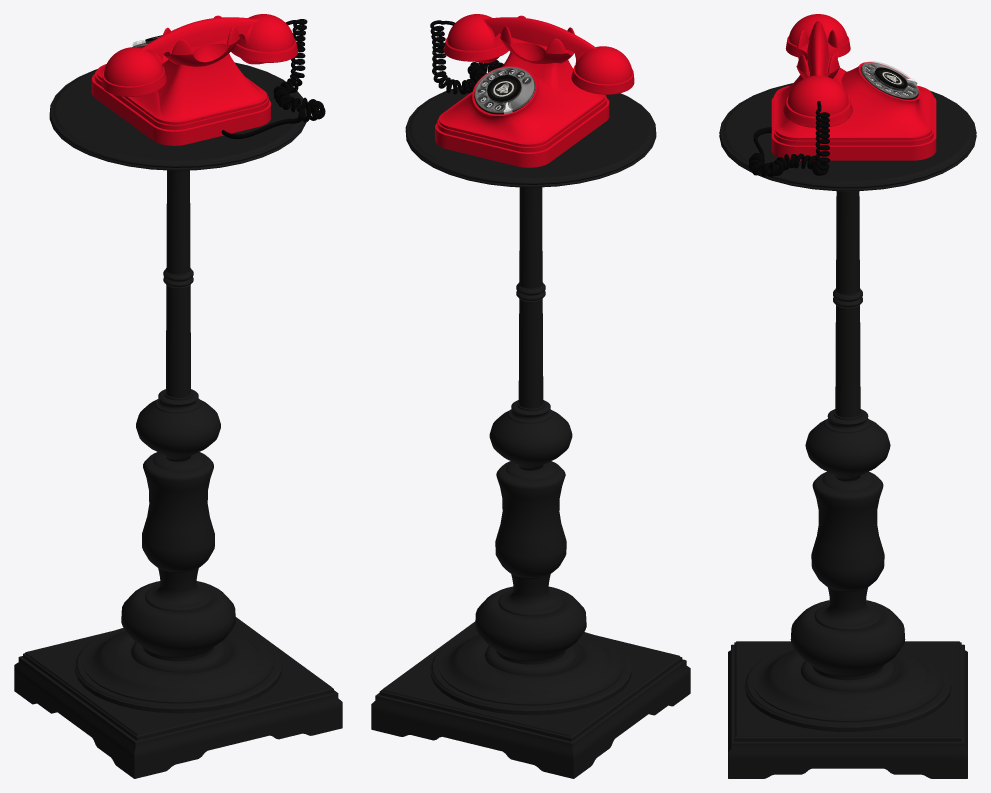
Rendered from phone.glb.
3 renders of one model, left to right at view 1: azimuth 30°, elevation 25°; view 2: azimuth 150°, elevation 25°; view 3: azimuth 270°, elevation 25°, orthographic. The views are drawn at different scales.
Visible parts, largest first — view 1: Object_4.001, Object_8, Object_9, Object_7, Object_10, Object_21, Object_19, Object_20, Object_15, Object_17; view 2: Object_4.001, Object_8, Object_9, Object_3, Object_7, Object_12, Object_21, Object_19, Object_20, Object_15, Object_17; view 3: Object_4.001, Object_8, Object_9, Object_20, Object_19, Object_15, Object_3, Object_17, Object_12, Object_7, Object_10, Object_6 (+1 smaller).
Boxes of the visible parts, x1=… form: Object_4.001: x1=14, y1=62, x2=342, y2=778; Object_8: x1=91, y1=46, x2=270, y2=145; Object_9: x1=102, y1=14, x2=298, y2=96; Object_7: x1=158, y1=53, x2=264, y2=120; Object_10: x1=102, y1=17, x2=295, y2=87; Object_21: x1=164, y1=37, x2=239, y2=66; Object_19: x1=221, y1=20, x2=324, y2=136; Object_20: x1=225, y1=20, x2=324, y2=136; Object_15: x1=222, y1=20, x2=325, y2=135; Object_17: x1=226, y1=20, x2=325, y2=135; Object_4.001: x1=371, y1=84, x2=690, y2=778; Object_8: x1=435, y1=66, x2=609, y2=167; Object_9: x1=443, y1=14, x2=634, y2=94; Object_3: x1=474, y1=67, x2=535, y2=114; Object_7: x1=502, y1=52, x2=602, y2=96; Object_12: x1=475, y1=66, x2=533, y2=112; Object_21: x1=500, y1=37, x2=574, y2=63; Object_19: x1=430, y1=20, x2=503, y2=94; Object_20: x1=431, y1=20, x2=503, y2=94; Object_15: x1=430, y1=23, x2=502, y2=93; Object_17: x1=430, y1=23, x2=503, y2=94; Object_4.001: x1=719, y1=83, x2=976, y2=778; Object_8: x1=771, y1=62, x2=936, y2=160; Object_9: x1=783, y1=14, x2=852, y2=127; Object_20: x1=749, y1=101, x2=829, y2=176; Object_19: x1=749, y1=101, x2=829, y2=177; Object_15: x1=748, y1=102, x2=830, y2=176; Object_3: x1=860, y1=63, x2=918, y2=99; Object_17: x1=749, y1=101, x2=829, y2=176; Object_12: x1=862, y1=61, x2=918, y2=97; Object_7: x1=778, y1=67, x2=846, y2=135; Object_10: x1=786, y1=21, x2=850, y2=117; Object_6: x1=797, y1=30, x2=839, y2=73.
Bounding box in the file's own units: 31.01 × 91.19 × 30.59.
13 materials, 2 textured.
